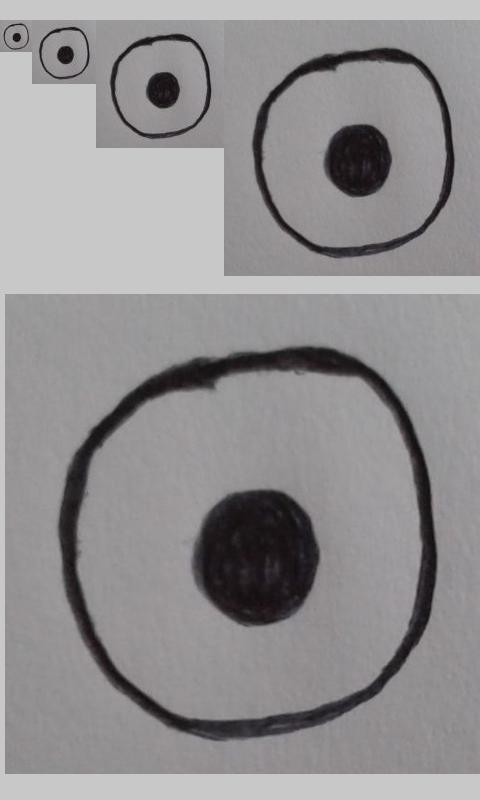radio_button: (55, 345, 438, 740), (251, 48, 454, 259), (110, 34, 213, 139), (38, 26, 90, 80), (3, 23, 30, 50)
